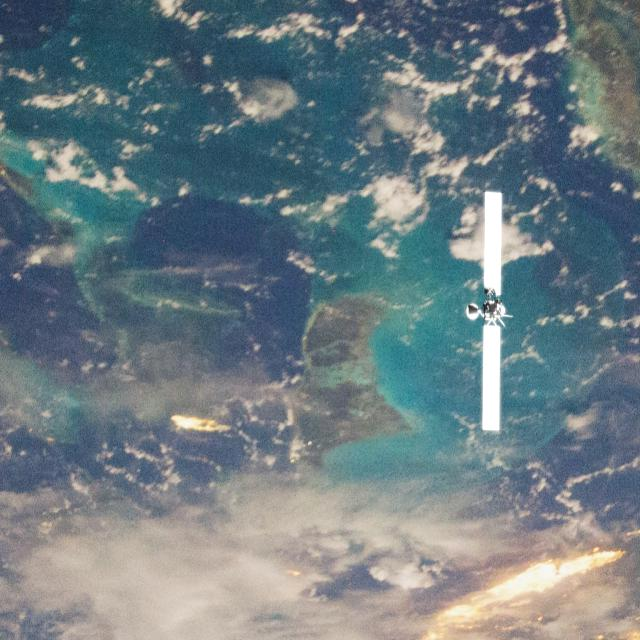satellite: (468, 182, 518, 437)
